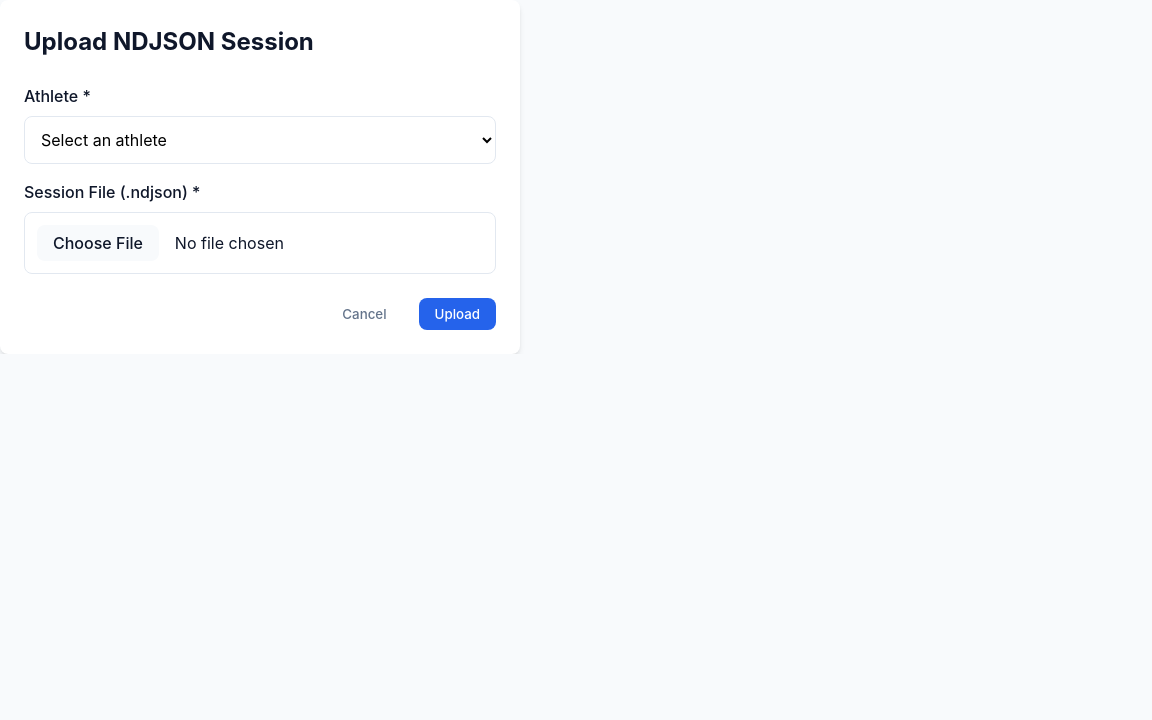
it: NdjsonUploadModal › shows validation error if no athlete selected
This screenshot has width=1152, height=720.
Click the button "Upload" at (457, 314), box 418,298 -> 496,330
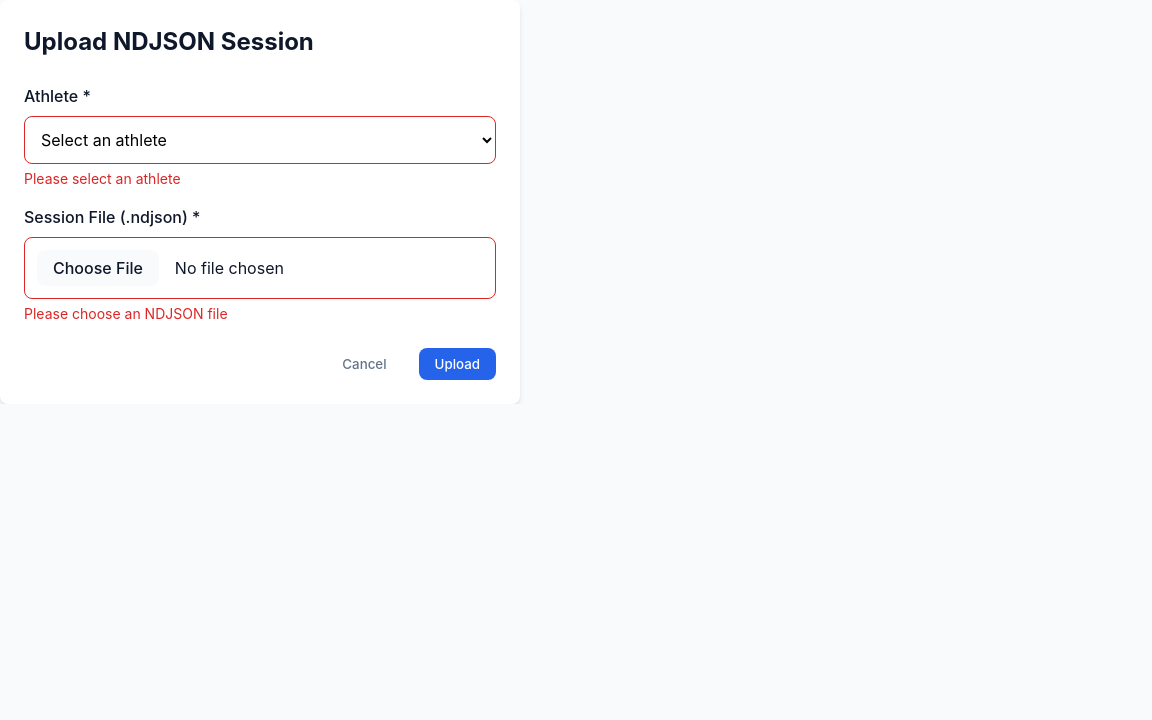
Check: the text "Please select an athlete" is shown, box 24,170 -> 181,187
